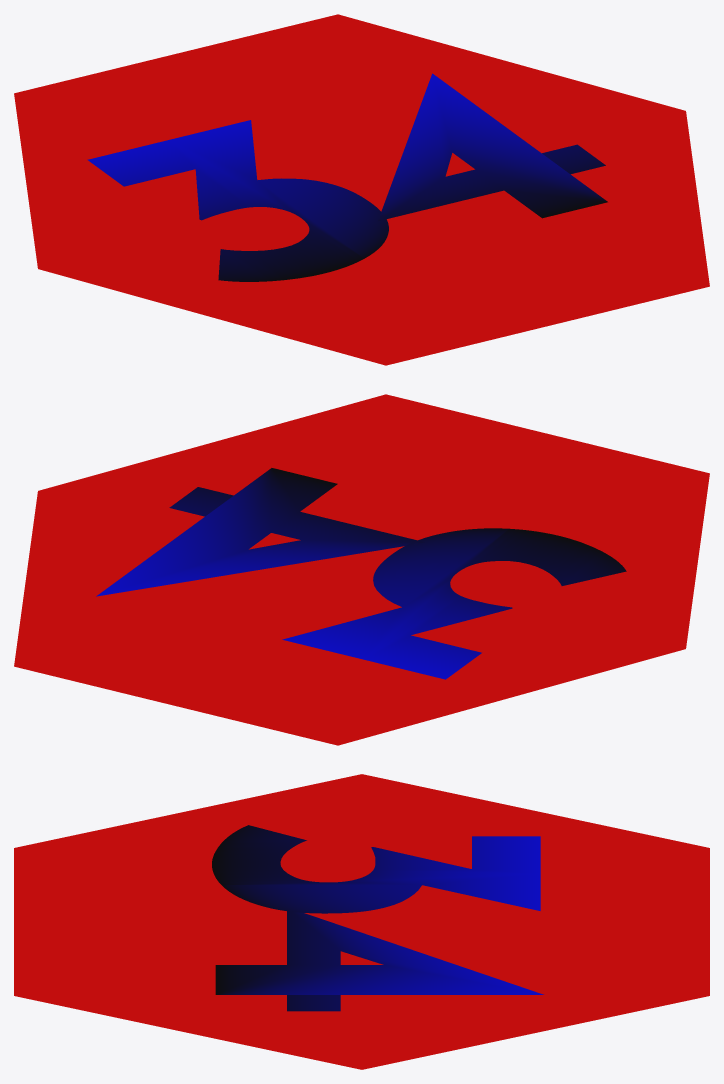
The model's file is SM_Number_34.fbx.
The picture shows the model from 3 angles, top to bottom: view 1: azimuth 30°, elevation 25°; view 2: azimuth 150°, elevation 25°; view 3: azimuth 270°, elevation 25°; orthographic projection. The views are drawn at different scales.
Parts seen in each view (by area): view 1: FBX_OUT; view 2: FBX_OUT; view 3: FBX_OUT.
Part boxes in pixels (x1,y1,x2,y2): FBX_OUT: (14, 14, 709, 365); FBX_OUT: (14, 394, 709, 745); FBX_OUT: (14, 774, 709, 1069).
Size of the model in its own units: 50 by 0.2917 by 49.71.
